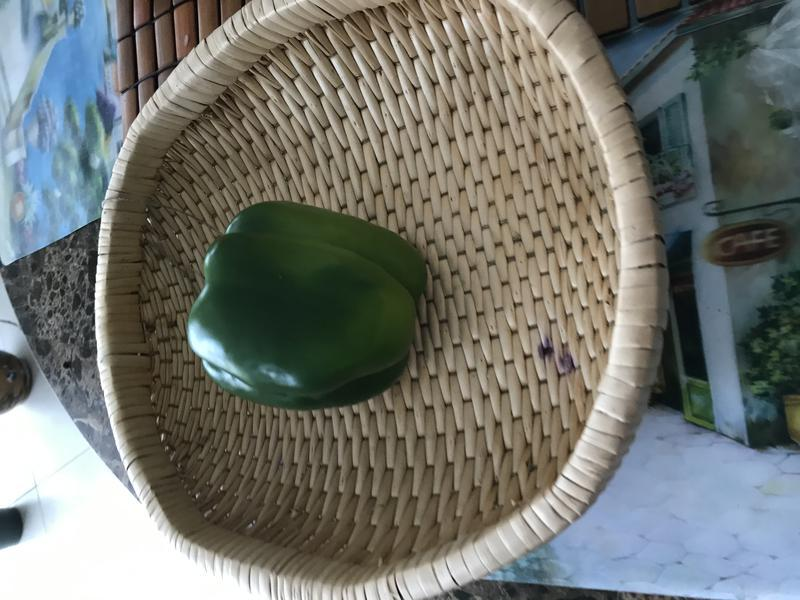green_pepper: (187, 190, 437, 416)
